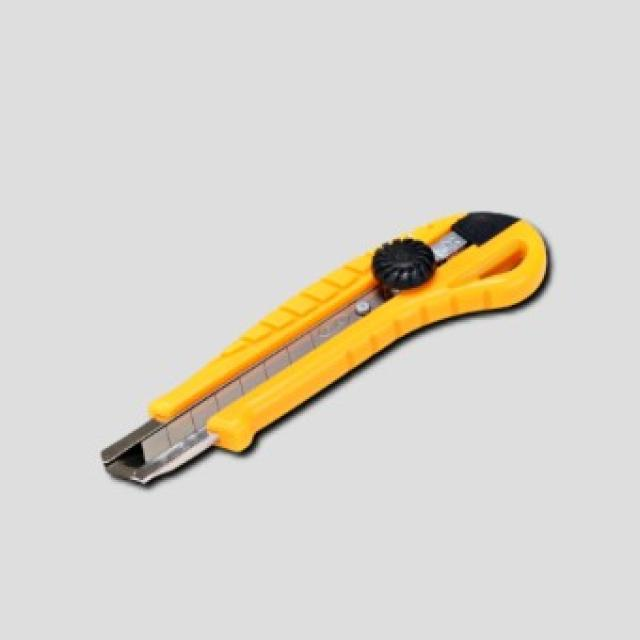cutter: (86, 195, 561, 500)
